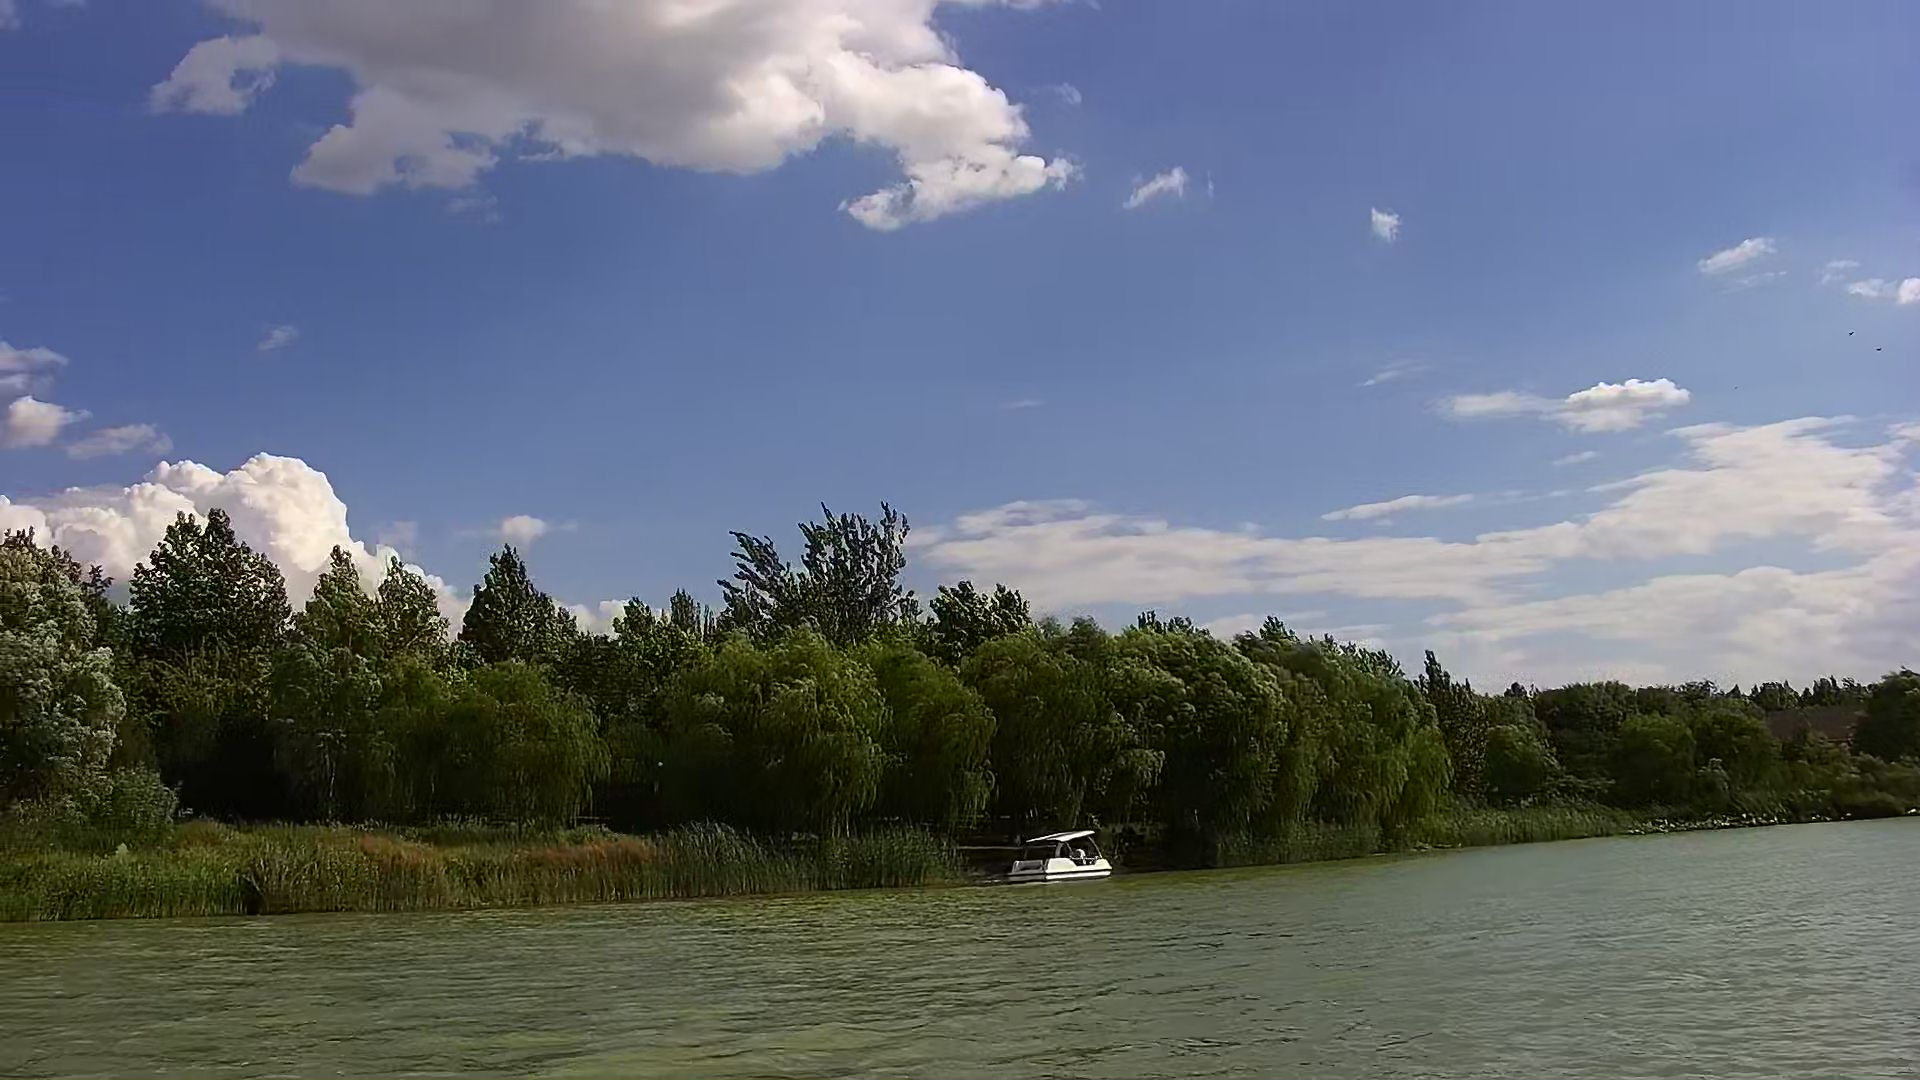boat: (1007, 829, 1116, 882)
